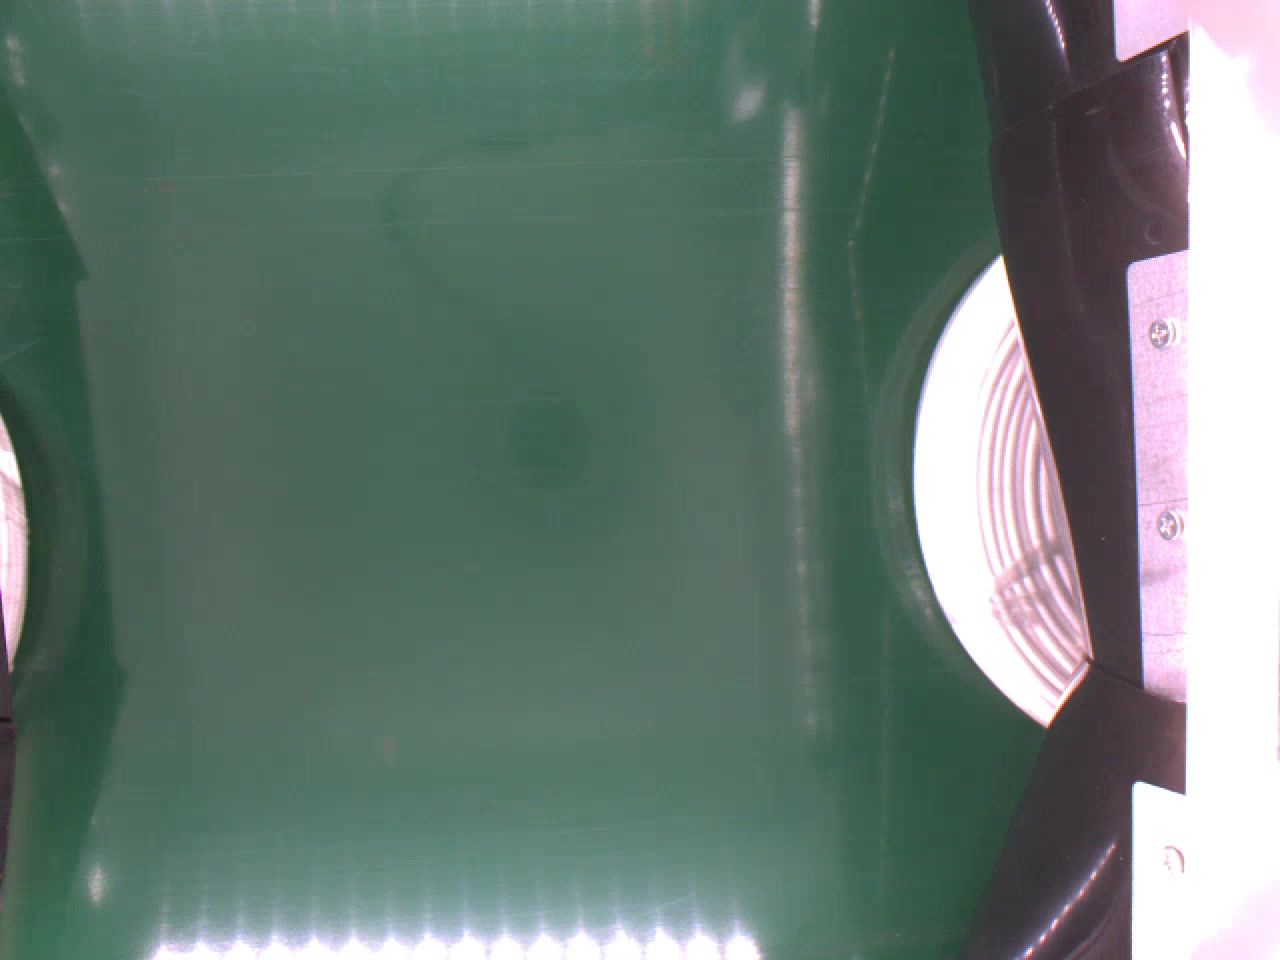white: (908, 232, 1091, 737)
